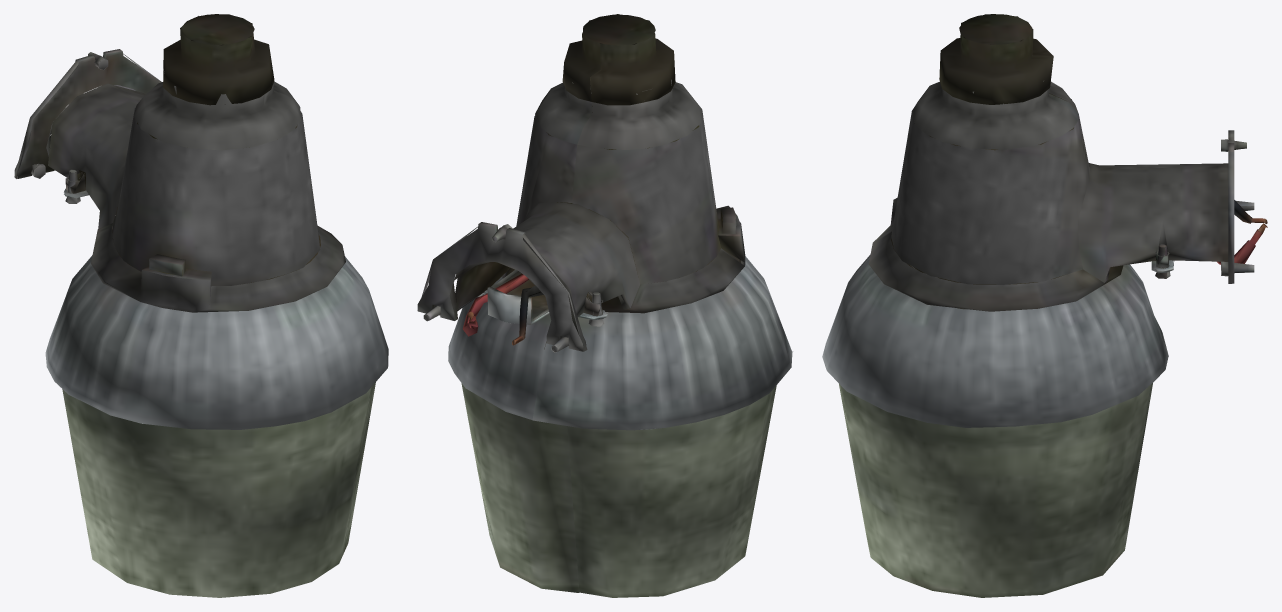
File: security_light.gltf
3 views of the same model, side by side, from view 1: azimuth 30°, elevation 25°; view 2: azimuth 150°, elevation 25°; view 3: azimuth 270°, elevation 25° (orthographic).
Parts seen in each view (by area): view 1: security_light; view 2: security_light; view 3: security_light.
Boxes of the visible parts, x1,y1,x2,y2 form: security_light: [14, 14, 388, 597]; security_light: [417, 14, 792, 597]; security_light: [822, 14, 1267, 597].
Size of the model in its own units: 0.3213 by 0.5305 by 0.4162.
3 materials, 3 textured.
